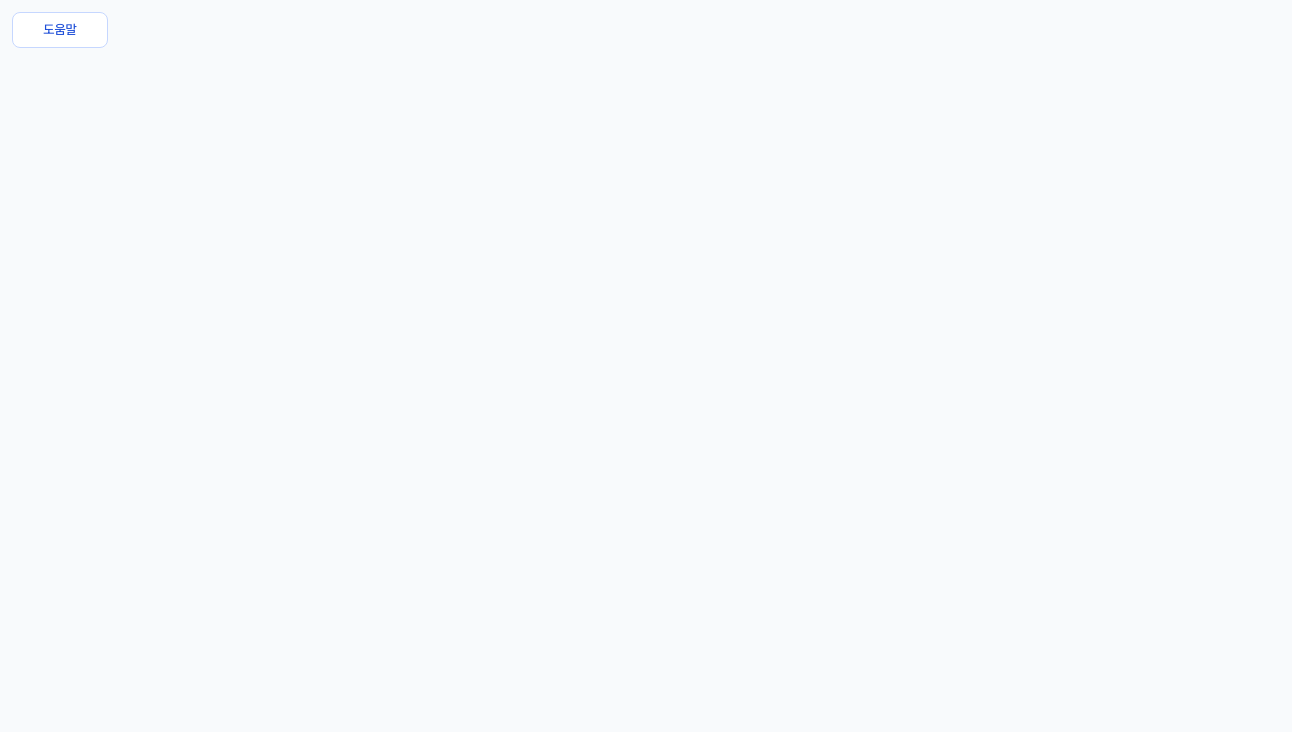
Scenario: explains the five-second preparation timeout and offers an explicit retry without a fallback target
Click the button "도움말".
click(60, 30)  # box [12, 12, 108, 48]
Wait 5001 ms
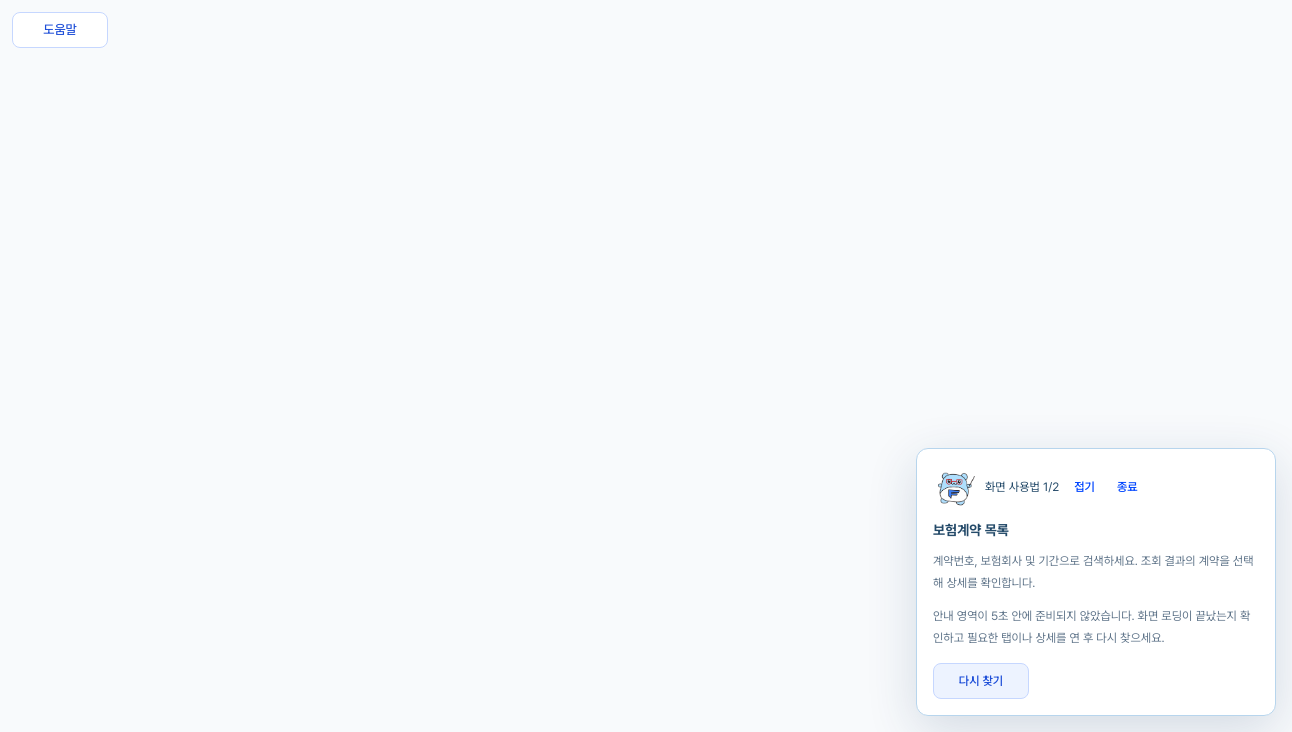
Expected: the message shows "안내 영역이 5초 안에 준비되지 않았습니다.", [933, 609, 1250, 645]
Expected: the button "다시 찾기" is enabled, [933, 663, 1029, 699]
